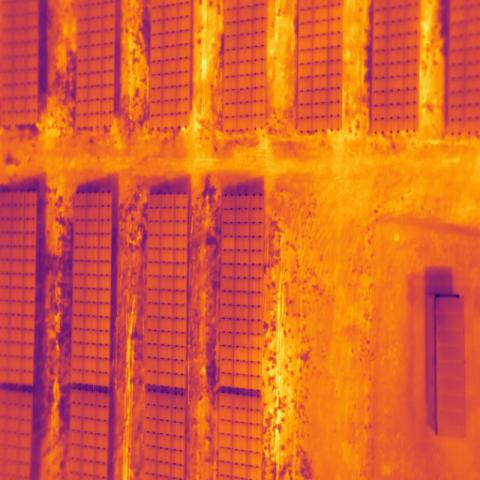fault: (221, 236, 236, 251)
